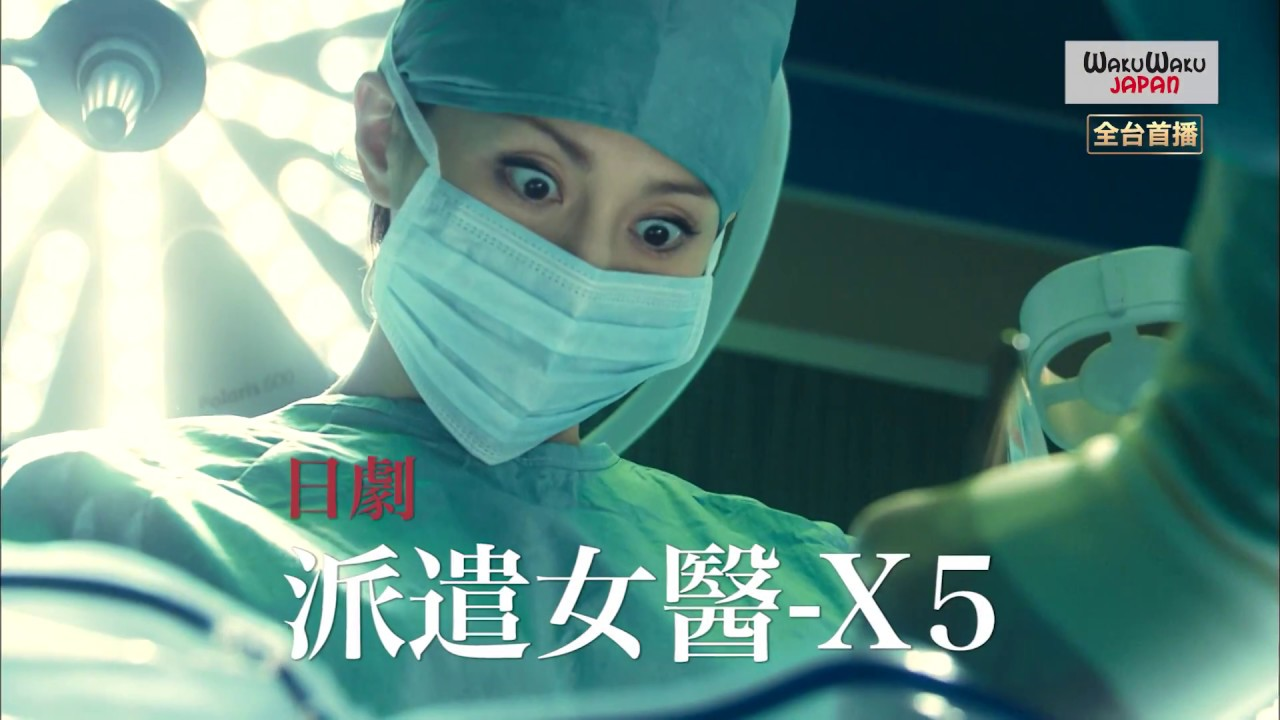mask: (363, 171, 715, 470)
